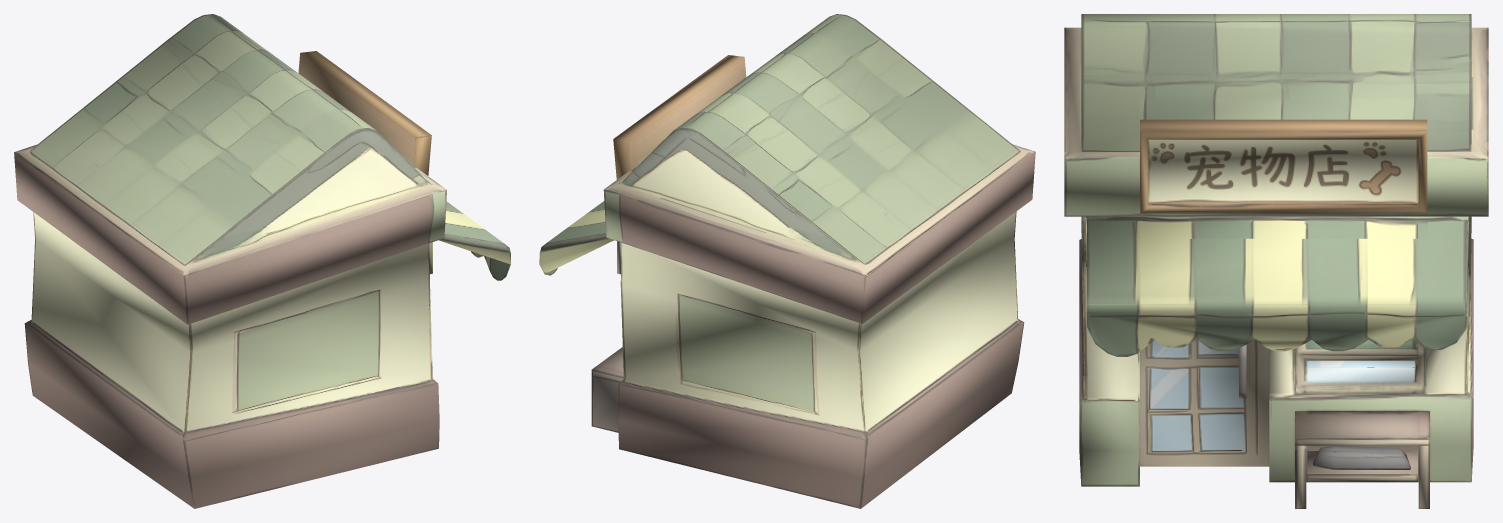
Rendered from 宠物店3d模型.fbx.
3 views of the same model, side by side, from view 1: azimuth 30°, elevation 25°; view 2: azimuth 150°, elevation 25°; view 3: azimuth 270°, elevation 25° (orthographic). The views are drawn at different scales.
Parts seen in each view (by area): view 1: meshes[0]; view 2: meshes[0]; view 3: meshes[0].
Part boxes in pixels (x1,y1,x2,y2): meshes[0]: (14, 14, 510, 508); meshes[0]: (539, 14, 1035, 508); meshes[0]: (1064, 14, 1488, 508).
Size of the model in its own units: 0.998 by 0.9629 by 0.877.
1 material, 1 textured.
